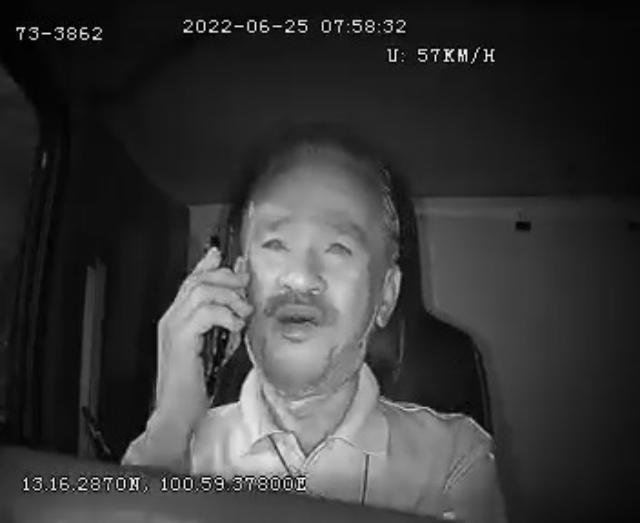PhoneUse: (192, 232, 238, 408)
SafeDriving: (254, 221, 294, 262), (318, 226, 359, 266)
